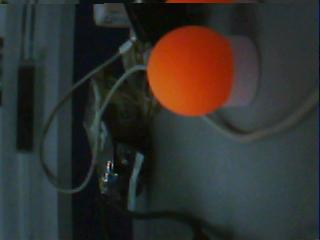oball: (147, 25, 233, 117)
